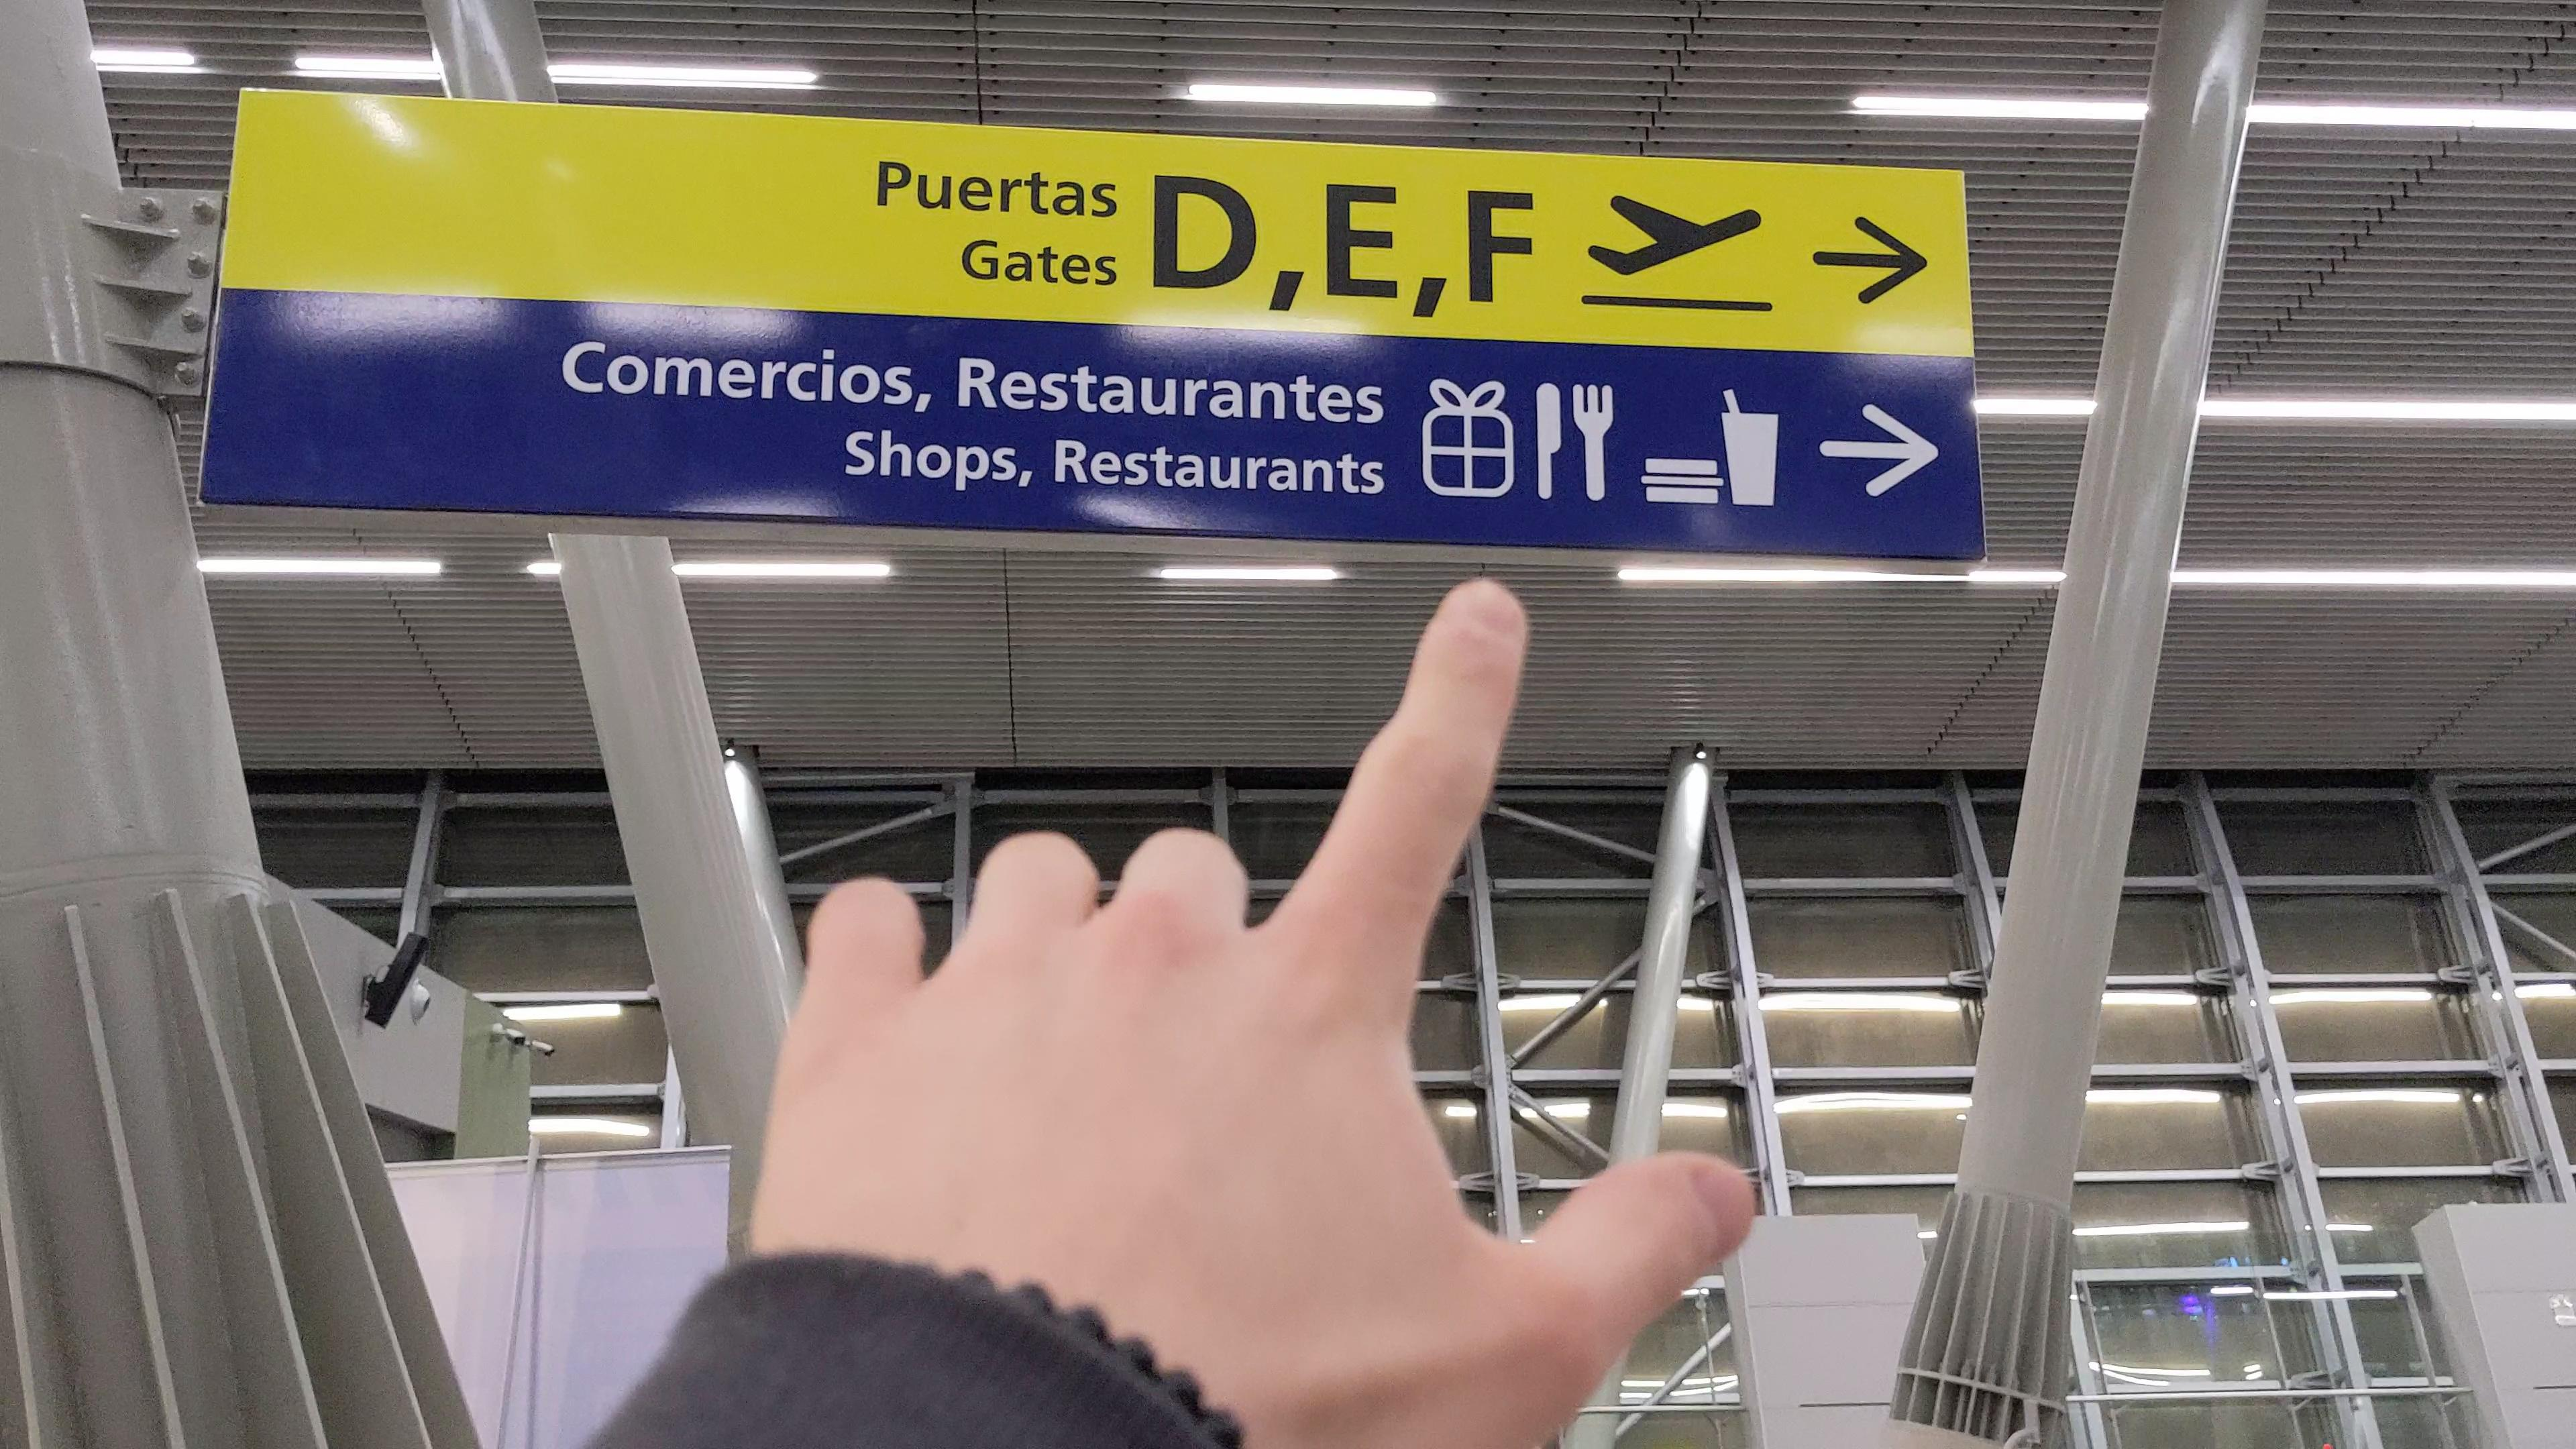airplane symbol: (1587, 188, 1769, 281)
restaurants: (1529, 375, 1621, 508)
thin right arrow: (1799, 205, 1941, 315), (1819, 400, 1948, 508)
